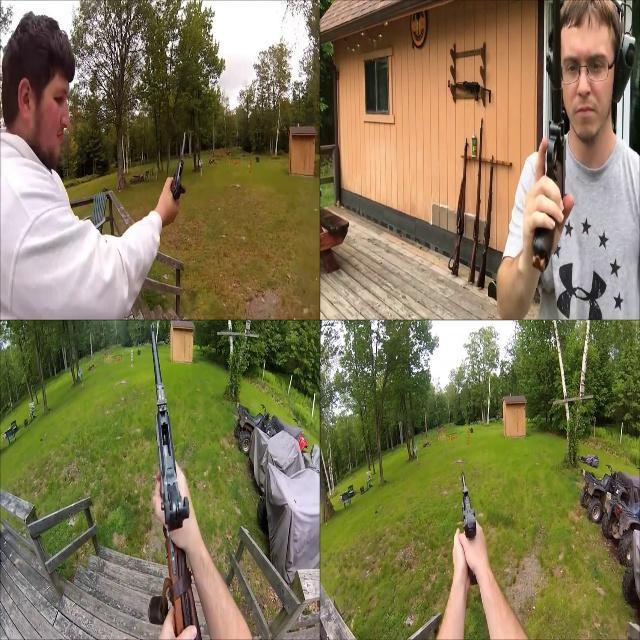gun-knife-thesis - v11 Yolov5 augmented: (140, 321, 210, 637), (525, 0, 578, 273), (452, 463, 487, 600), (444, 135, 467, 281), (473, 154, 497, 287), (466, 114, 483, 287), (166, 131, 196, 203), (443, 72, 493, 101)
